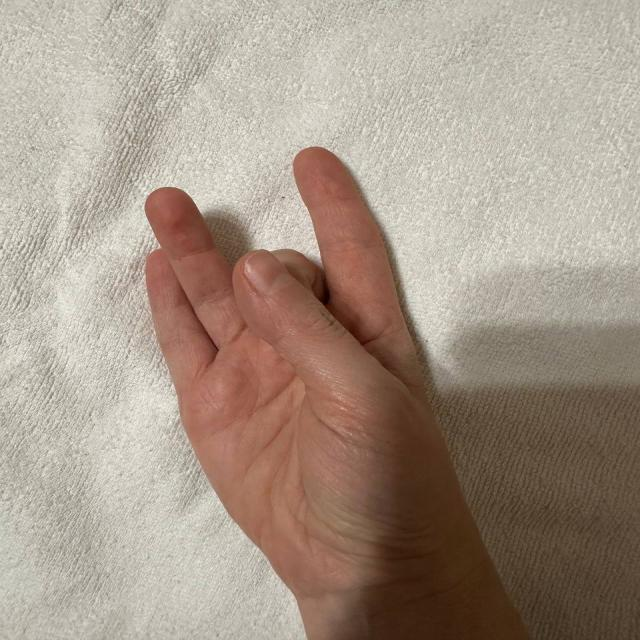r: (91, 127, 482, 528)
